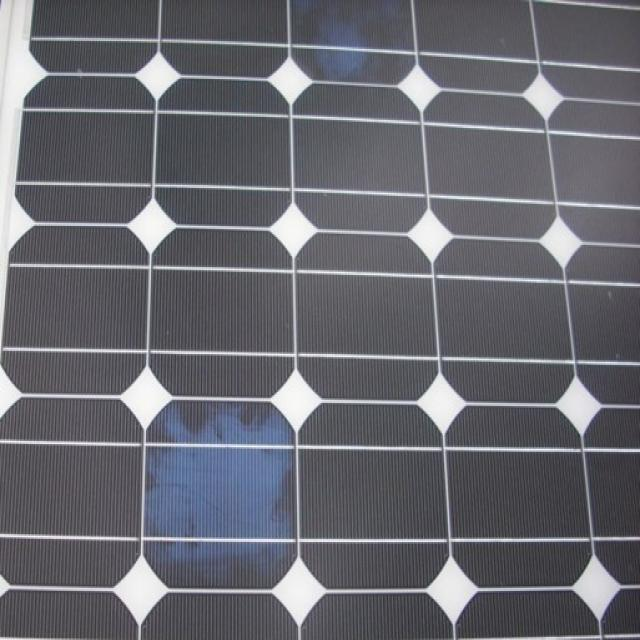electrical damage: (134, 386, 305, 588)
